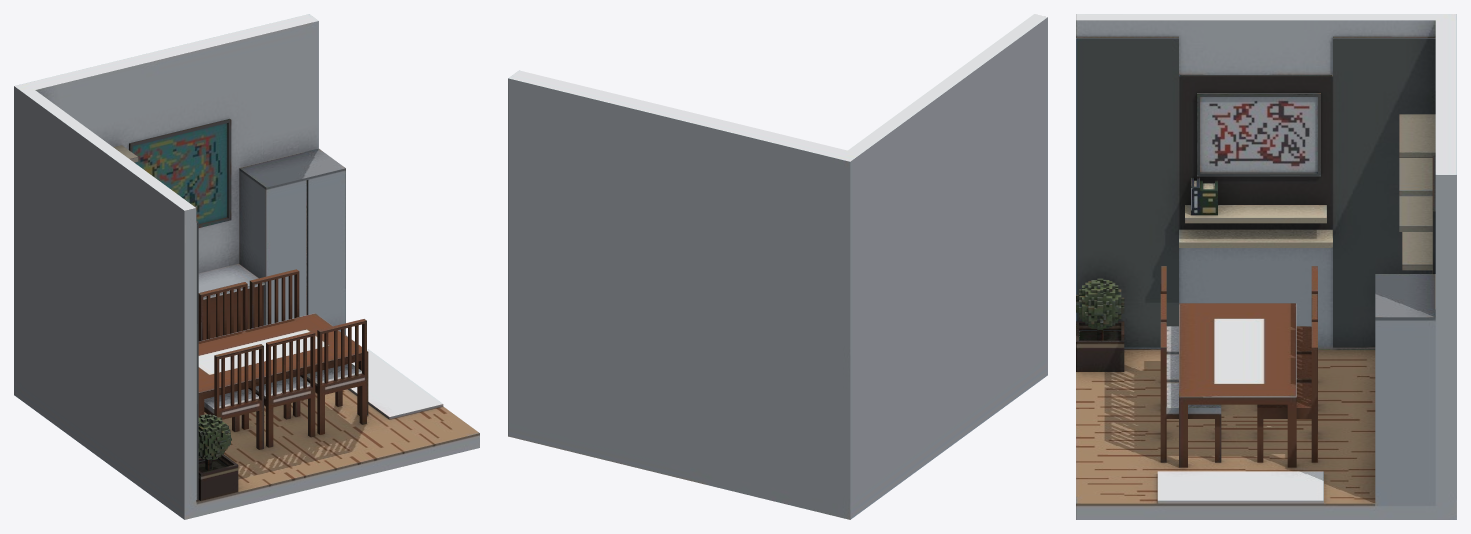
Rendered from Kitchen_01.dae.
3 views of the same model, side by side, from view 1: azimuth 30°, elevation 25°; view 2: azimuth 150°, elevation 25°; view 3: azimuth 270°, elevation 25° (orthographic). The views are drawn at different scales.
Parts seen in each view (by area): view 1: Kitchen_001; view 2: Kitchen_001; view 3: Kitchen_001.
Boxes of the visible parts, x1,y1,x2,y2 form: Kitchen_001: (14, 14, 479, 519); Kitchen_001: (508, 14, 1047, 519); Kitchen_001: (1076, 14, 1456, 519).
Bounding box in the file's own units: 126 × 126 × 126.
Materials: 1 (1 with a texture image).
